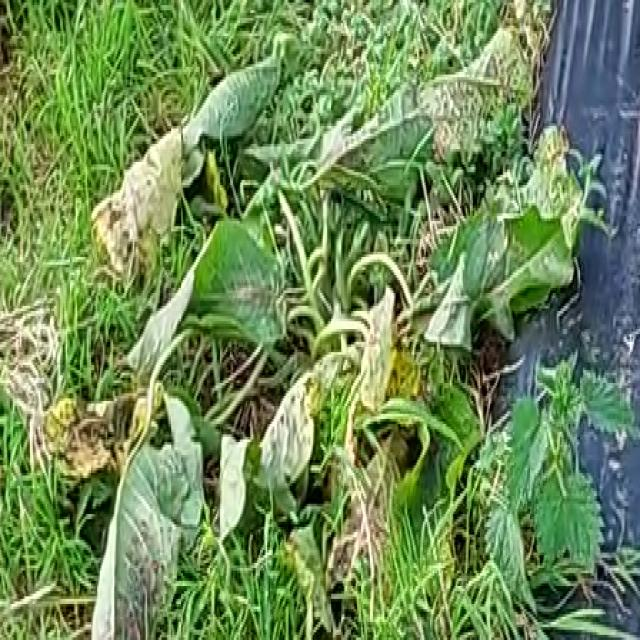organic waste: (81, 28, 572, 609)
